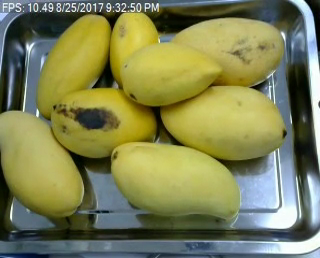Mango: (111, 142, 239, 221), (159, 85, 285, 162), (0, 109, 86, 217), (36, 11, 111, 118), (172, 18, 286, 88), (49, 89, 159, 156), (120, 42, 222, 106), (108, 9, 161, 88)
